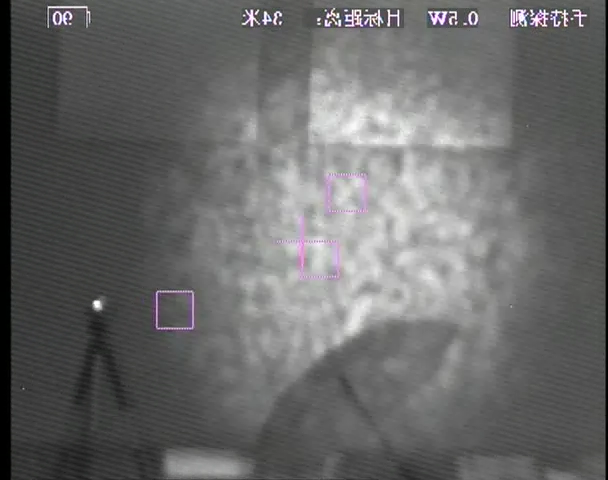my: (92, 298, 103, 310)
